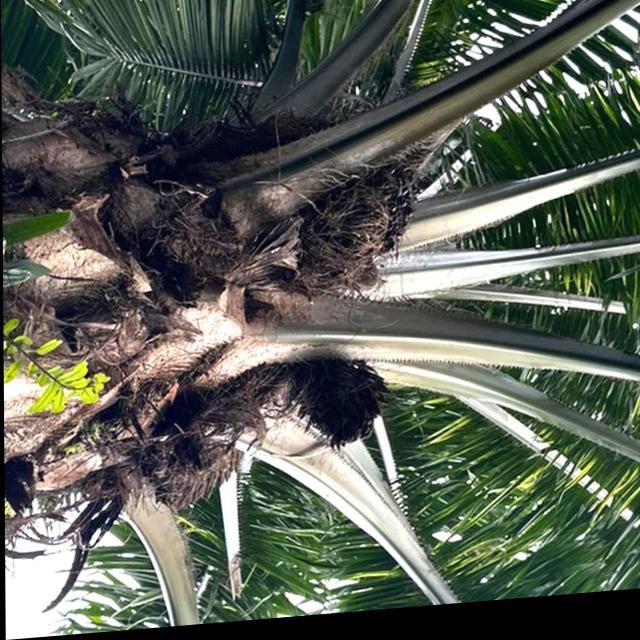almost: (284, 158, 425, 308)
